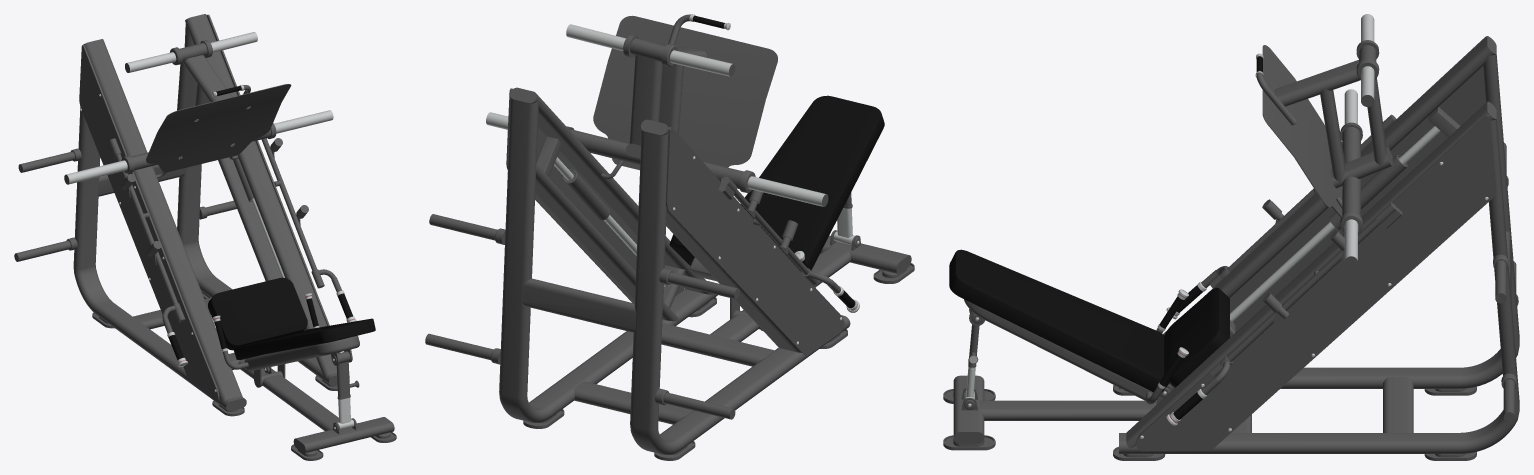
Rendered from Megafitness_94020.glb.
3 renders of one model, left to right at view 1: azimuth 30°, elevation 25°; view 2: azimuth 150°, elevation 25°; view 3: azimuth 270°, elevation 25°, orthographic. The views are drawn at different scales.
Visible parts, largest first — view 1: polySurface952.026, Plane.003, Cube, polySurface952.024, polySurface952.018, AMV10_V1094.001, polySurface952.001, AMV10_V1095.001, polySurface952.019, polySurface952.033, polySurface952.031, polySurface952.035 (+14 smaller); view 2: Cube, Plane.003, polySurface952.001, polySurface952.024, AMV10_V1095.001, polySurface952.018, polySurface952.003, polySurface952.019, Plane.001, polySurface952.028, polySurface952.014, polySurface952.006 (+17 smaller); view 3: Plane.001, AMV10_V1095.001, polySurface952.001, polySurface952.024, Plane.003, polySurface952.026, polySurface952.018, Cube, AMV10_V1094.001, polySurface952.033, polySurface952.035, polySurface952.005 (+12 smaller).
Part boxes in pixels (x1,y1,x2,y2): polySurface952.026: [83, 39, 242, 403]; Plane.003: [79, 45, 219, 401]; Cube: [146, 84, 291, 172]; polySurface952.024: [73, 107, 246, 411]; polySurface952.018: [185, 14, 336, 378]; AMV10_V1094.001: [208, 277, 307, 350]; polySurface952.001: [177, 23, 349, 385]; AMV10_V1095.001: [233, 318, 375, 359]; polySurface952.019: [218, 157, 281, 281]; polySurface952.033: [238, 359, 338, 430]; polySurface952.031: [293, 417, 394, 453]; polySurface952.035: [244, 335, 359, 371]; Cube: [593, 15, 777, 170]; Plane.003: [666, 127, 843, 356]; polySurface952.001: [499, 97, 717, 422]; polySurface952.024: [630, 130, 850, 454]; AMV10_V1095.001: [740, 95, 884, 271]; polySurface952.018: [510, 87, 714, 294]; polySurface952.003: [522, 278, 636, 332]; polySurface952.019: [535, 164, 678, 321]; Plane.001: [506, 88, 683, 303]; polySurface952.028: [666, 209, 801, 352]; polySurface952.014: [661, 323, 774, 366]; polySurface952.006: [629, 55, 662, 145]; Plane.001: [1136, 115, 1496, 451]; AMV10_V1095.001: [949, 249, 1169, 392]; polySurface952.001: [1119, 118, 1519, 453]; polySurface952.024: [1119, 53, 1519, 388]; Plane.003: [1229, 36, 1488, 331]; polySurface952.026: [1163, 36, 1496, 335]; polySurface952.018: [1126, 101, 1496, 448]; Cube: [1262, 45, 1342, 217]; AMV10_V1094.001: [1164, 287, 1229, 387]; polySurface952.033: [979, 400, 1156, 420]; polySurface952.035: [964, 299, 1153, 400]; polySurface952.005: [1274, 60, 1360, 106].
Size of the model in its own units: 1.28 by 1.33 by 1.87.
Materials: 2 (2 with a texture image).
